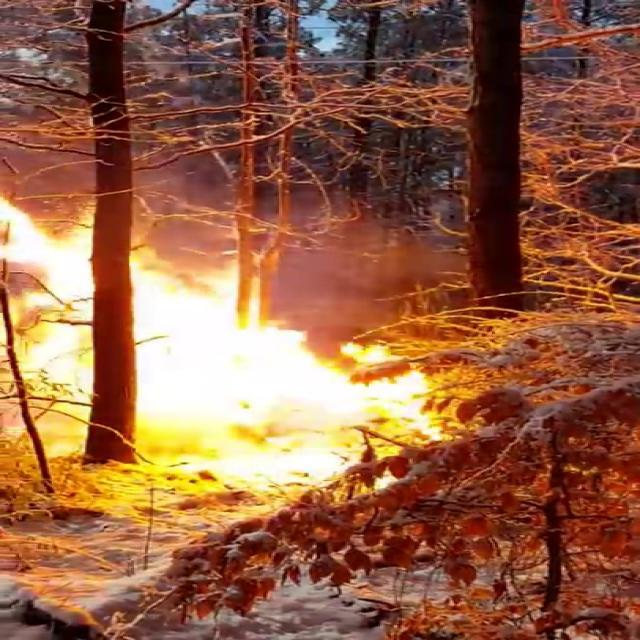Fire: (0, 182, 467, 514)
